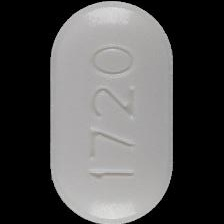0179-0193: (0, 0, 224, 224)
